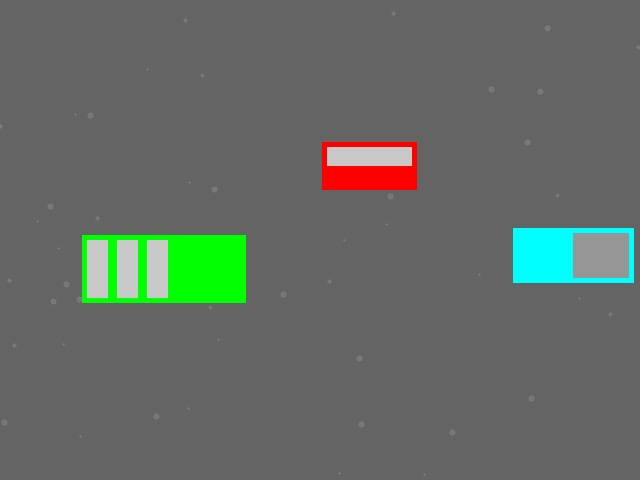bus: (82, 235, 245, 302)
car: (322, 142, 416, 189)
truck: (513, 228, 633, 282)
